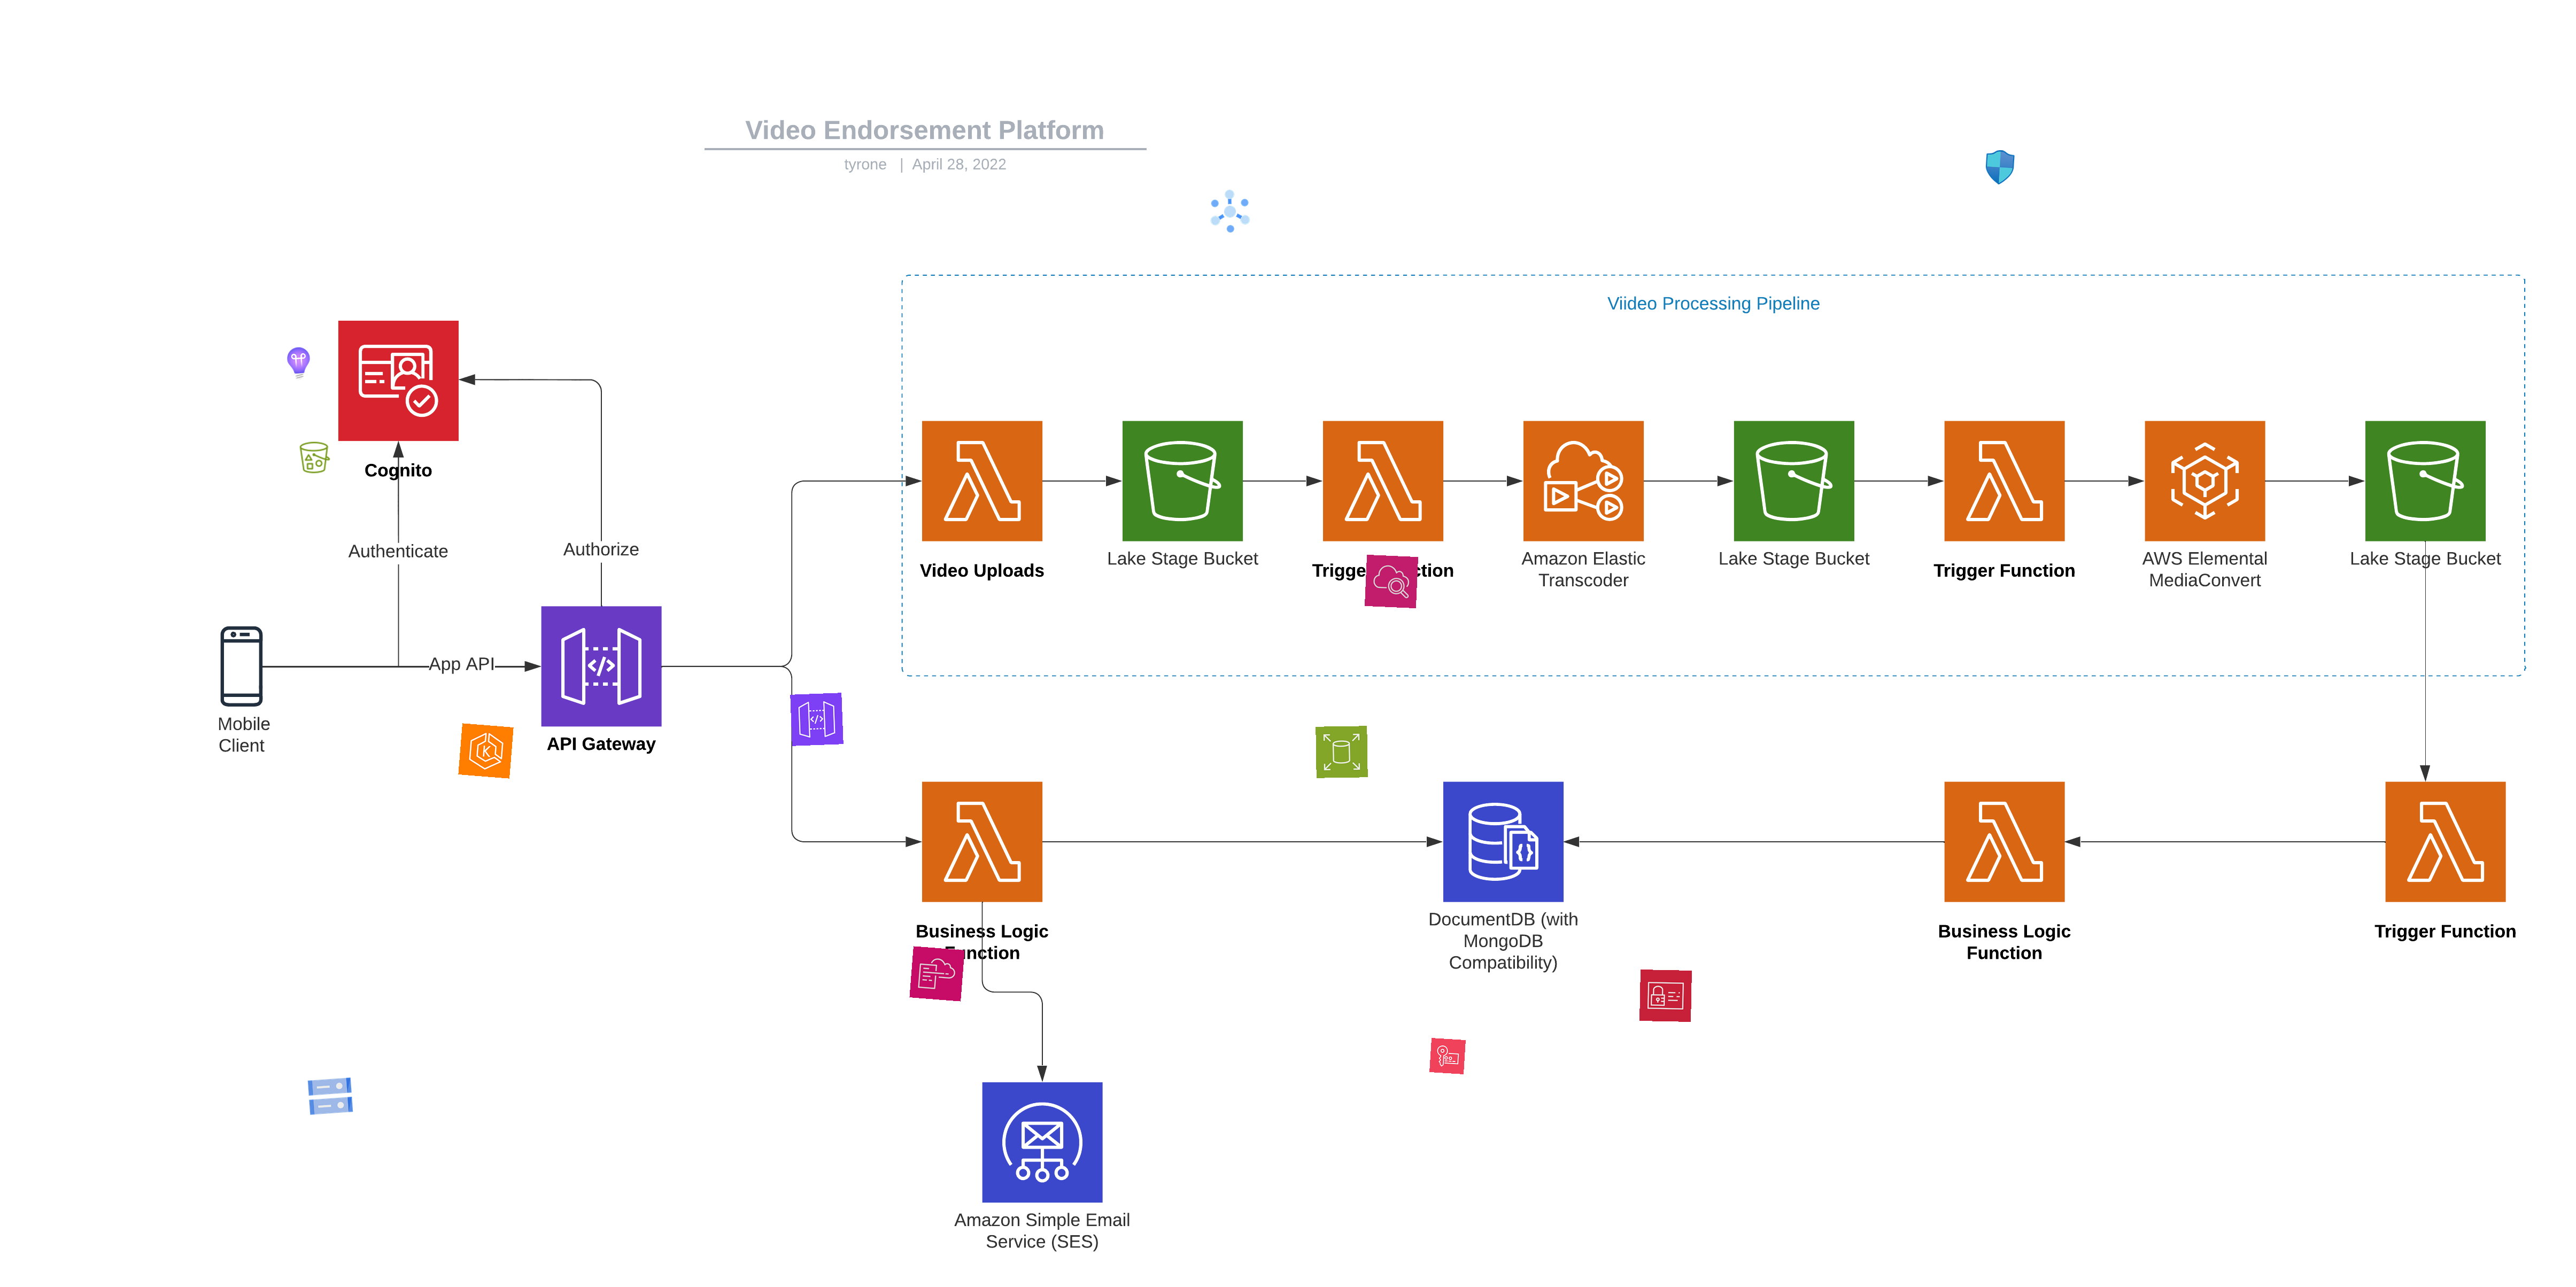aws_amazon_api_gateway: (790, 693, 843, 747)
aws_amazon_cloudwatch: (1364, 555, 1419, 609)
aws_amazon_elastic_block_store: (1316, 726, 1368, 778)
aws_amazon_elastic_kubernetes_service: (458, 724, 514, 778)
aws_cloudformation: (909, 946, 964, 1001)
aws_identity_and_access_management: (1640, 970, 1692, 1023)
aws_key_management_service: (1429, 1037, 1465, 1074)
aws_simple_storage_service_bucket_with_objects: (297, 440, 332, 474)
azure_application_insights: (281, 345, 317, 381)
azure_network_security_groups: (1981, 149, 2017, 185)
gcp_cloud_storage: (302, 1069, 358, 1124)
gcp_pubsub: (1203, 184, 1257, 238)
